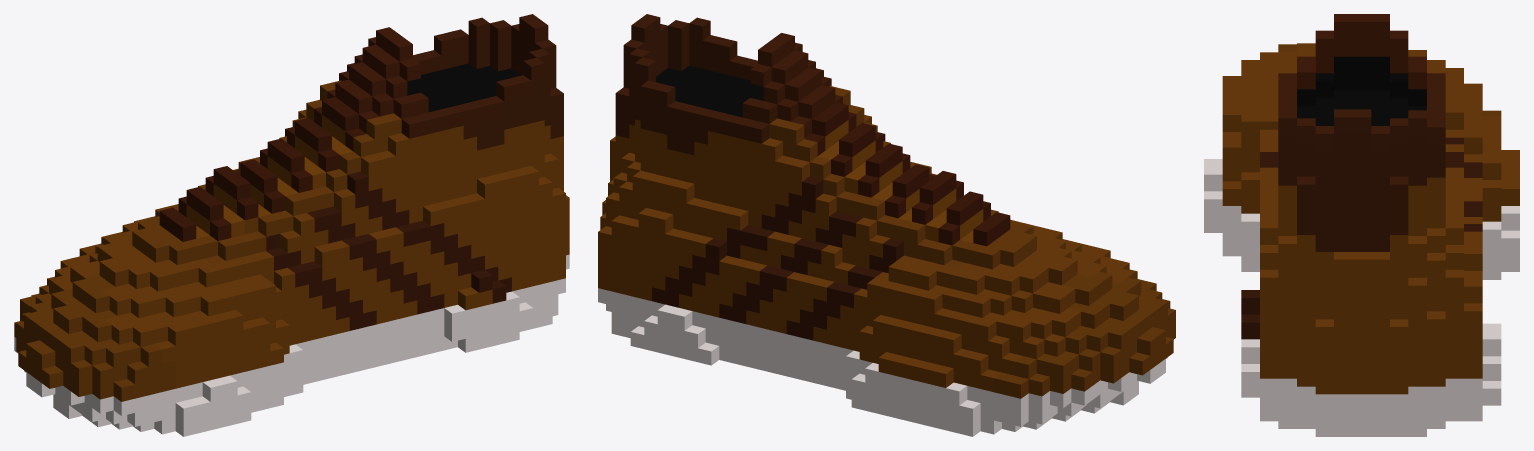
Rendered from Mockolate.fbx.
3 renders of one model, left to right at view 1: azimuth 30°, elevation 25°; view 2: azimuth 150°, elevation 25°; view 3: azimuth 270°, elevation 25°, orthographic. The views are drawn at different scales.
Visible parts, largest first — view 1: Untitled; view 2: Untitled; view 3: Untitled.
Boxes of the visible parts, <box> form: Untitled: <box>14,14,569,436</box>; Untitled: <box>598,14,1175,436</box>; Untitled: <box>1204,14,1519,436</box>.
Size of the model in its own units: 390 by 200 by 170.
